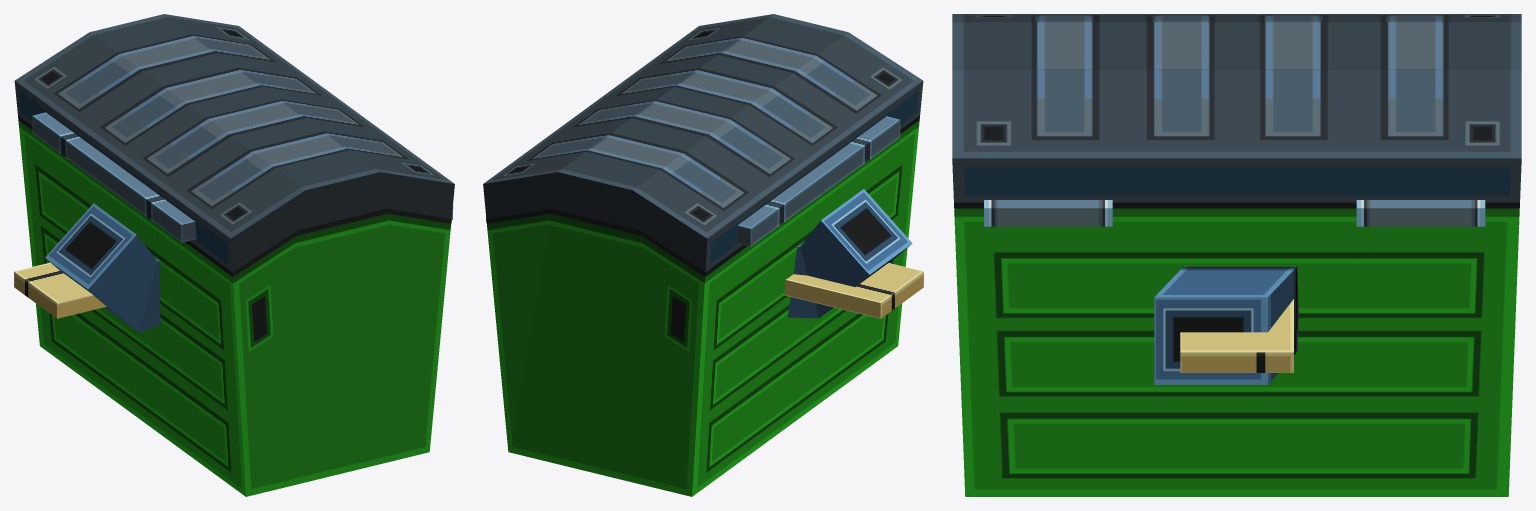
File: props_01.fbx
The picture shows the model from 3 angles, left to right: view 1: azimuth 30°, elevation 25°; view 2: azimuth 150°, elevation 25°; view 3: azimuth 270°, elevation 25°; orthographic projection. The views are drawn at different scales.
Parts seen in each view (by area): view 1: dumbster, tube, board; view 2: dumbster, tube, board; view 3: dumbster, tube, board.
Boxes of the visible parts, x1,y1,x2,y2 form: dumbster: [14, 14, 454, 496]; tube: [45, 203, 160, 332]; board: [14, 220, 451, 318]; dumbster: [483, 14, 923, 496]; tube: [787, 189, 912, 318]; board: [486, 217, 923, 318]; dumbster: [952, 14, 1521, 496]; tube: [1154, 266, 1298, 384]; board: [1180, 299, 1293, 372].
Size of the model in its own units: 3.42 by 2.46 by 3.24.
